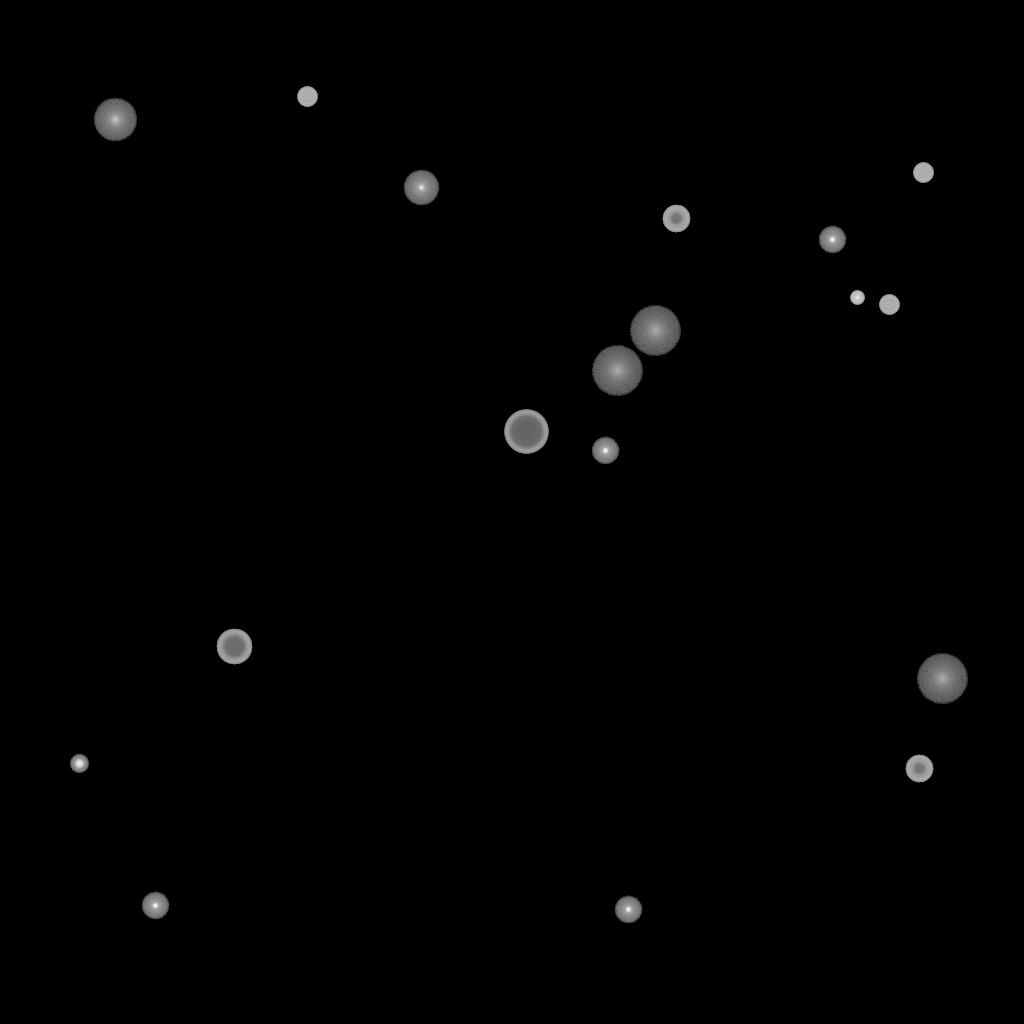depth:-10: (591, 437, 619, 465), (141, 892, 169, 920), (818, 226, 846, 254), (614, 896, 642, 924)
depth:-20: (70, 755, 88, 773)
depth:-30: (850, 291, 864, 305)
depth:-40: (913, 163, 933, 183), (879, 295, 899, 315), (297, 87, 317, 107)
depth:-50: (905, 755, 933, 783), (662, 205, 690, 233)
depth:-60: (216, 629, 252, 665)
depth:-70: (504, 410, 548, 454)
depth:0: (403, 170, 439, 206)
depth:10: (93, 98, 137, 142)
depth:20: (629, 306, 681, 356), (916, 654, 968, 704), (591, 346, 643, 396)
